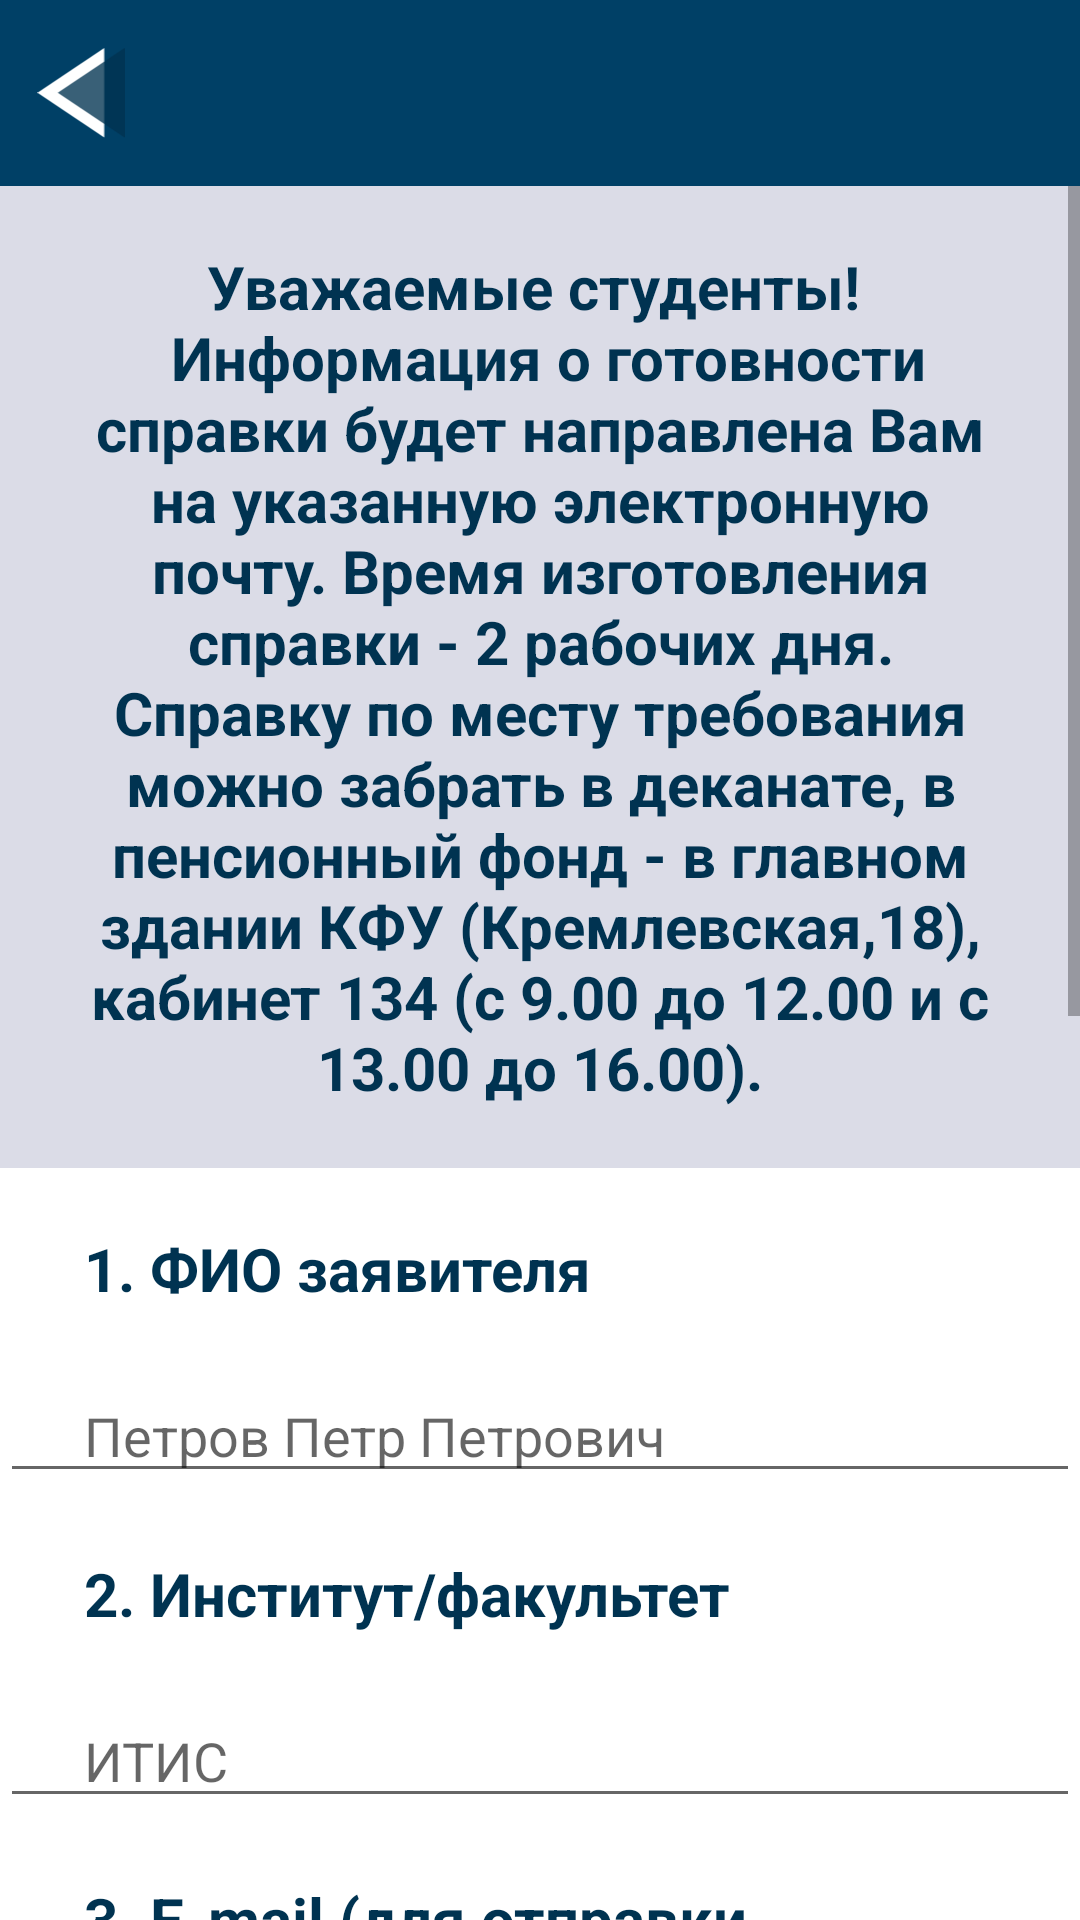

Icons on this 1080 × 1920 Android screen, each with its box as (x1, y1, x2, y2):
back: (37, 48, 105, 138)
